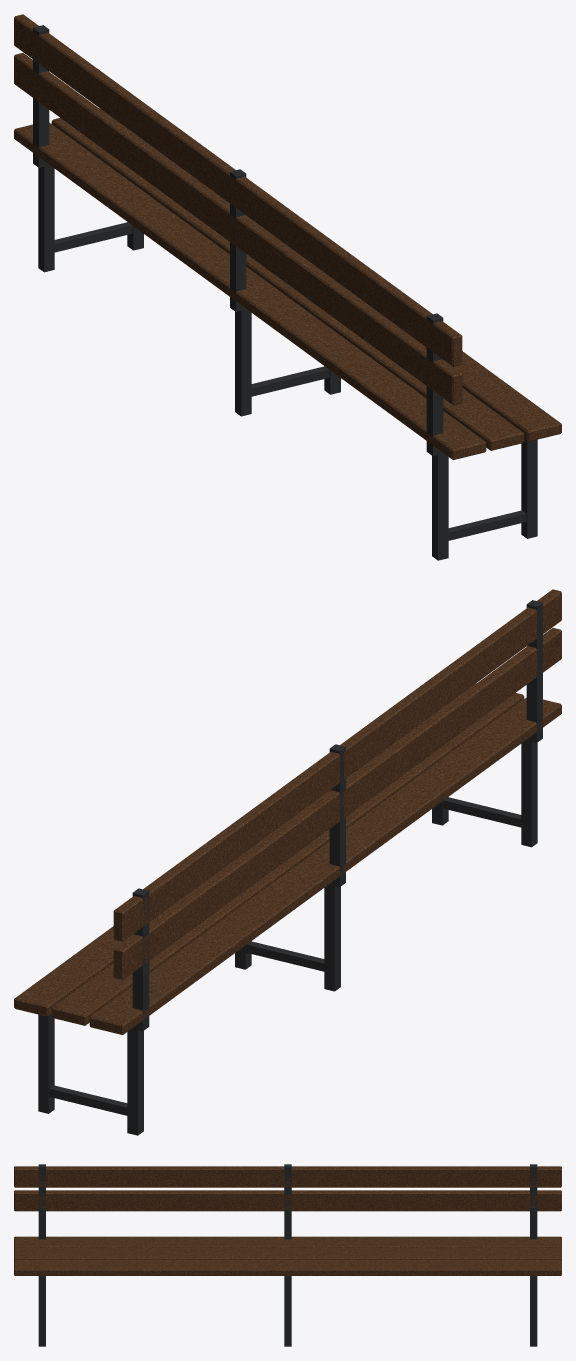
Rendered from RollCallBench.gltf.
The picture shows the model from 3 angles, top to bottom: view 1: azimuth 30°, elevation 25°; view 2: azimuth 150°, elevation 25°; view 3: azimuth 270°, elevation 25°; orthographic projection. The views are drawn at different scales.
Visible parts, largest first — view 1: RollCallBench; view 2: RollCallBench; view 3: RollCallBench.
Part boxes in pixels (<box>): RollCallBench: <box>14,14,561,560</box>; RollCallBench: <box>14,589,561,1135</box>; RollCallBench: <box>14,1164,561,1346</box>.
Size of the model in its own units: 0.42 by 0.88 by 2.9.
2 materials, 1 textured.
